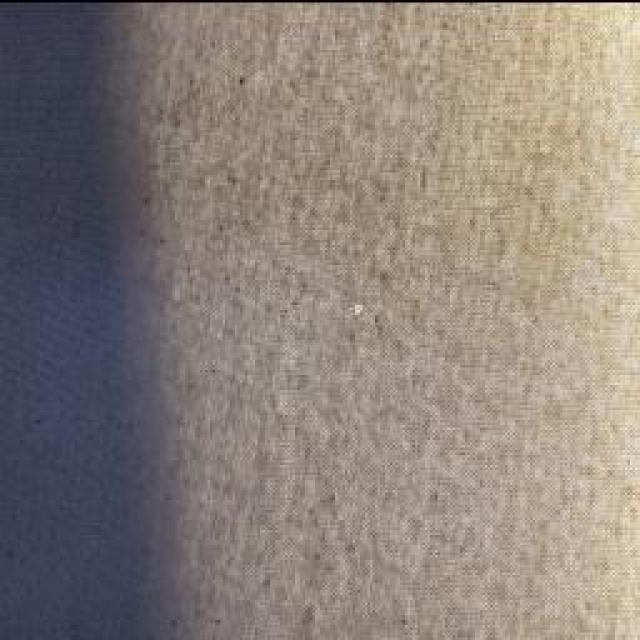other: (346, 295, 373, 325)
